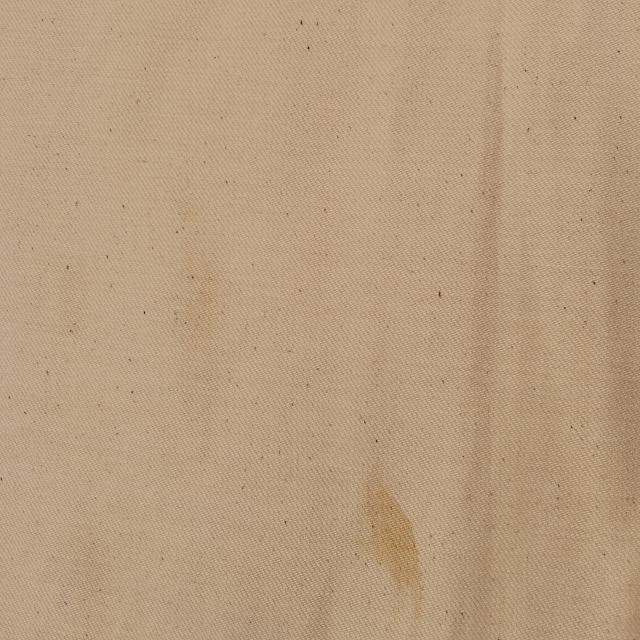taaaches: (358, 454, 428, 626)
